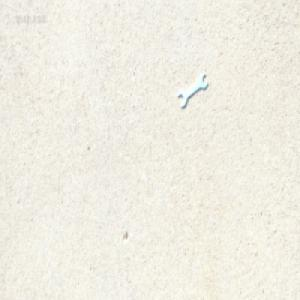Wrench: (177, 73, 206, 108)
